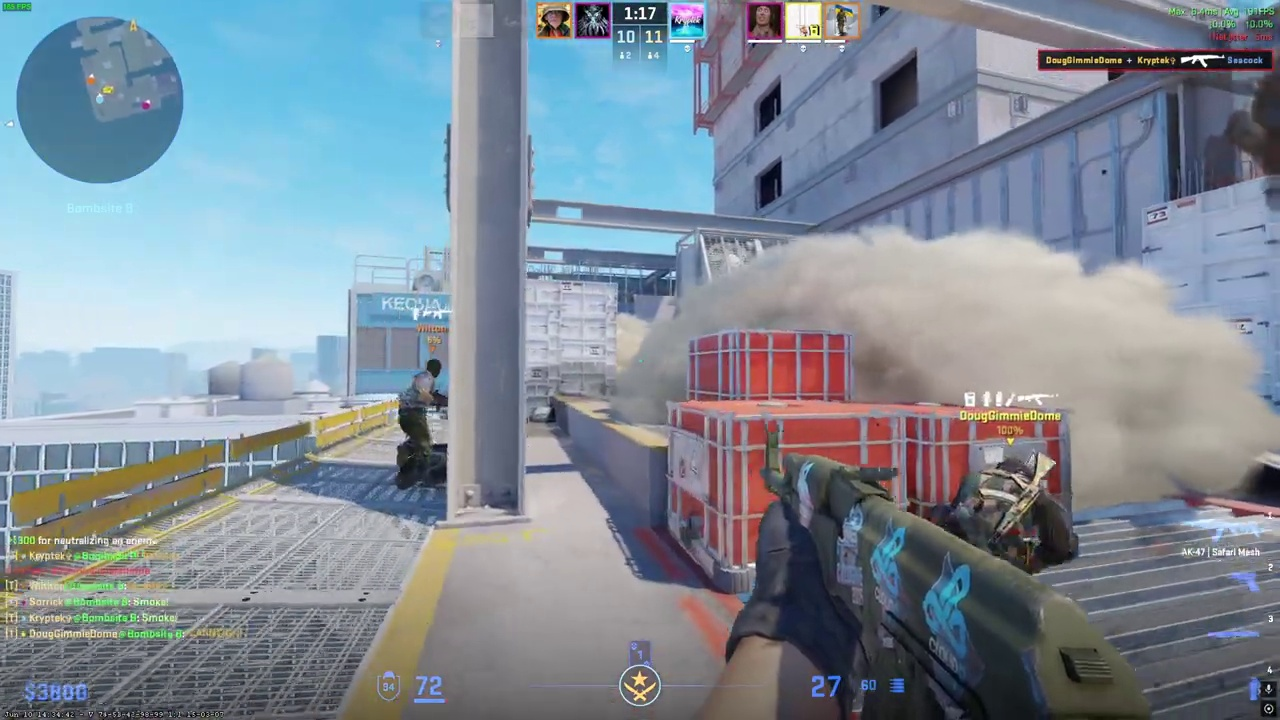Terrorist: (943, 457, 1074, 575), (397, 359, 444, 490)
